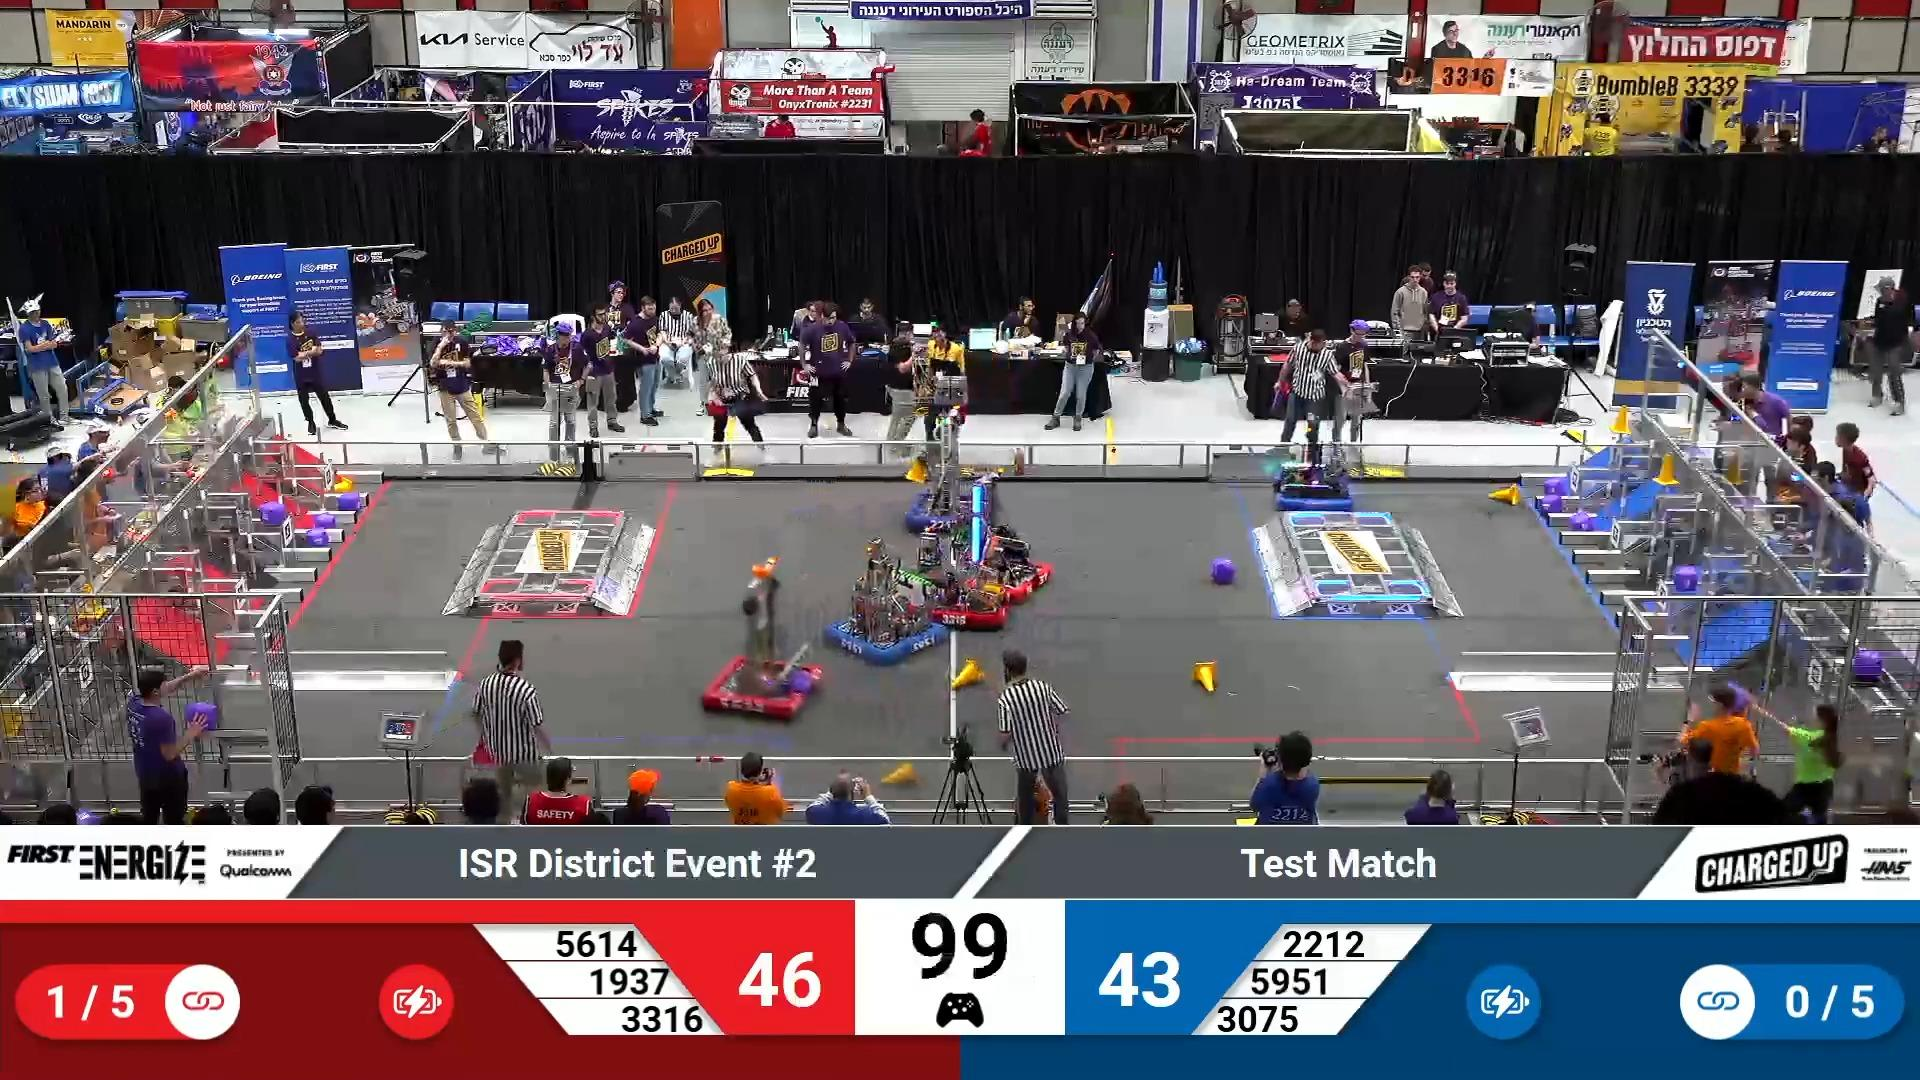robot: (700, 564, 828, 720), (825, 538, 948, 666), (953, 476, 1051, 600), (1265, 394, 1361, 508), (903, 415, 996, 529), (916, 535, 1014, 632)
